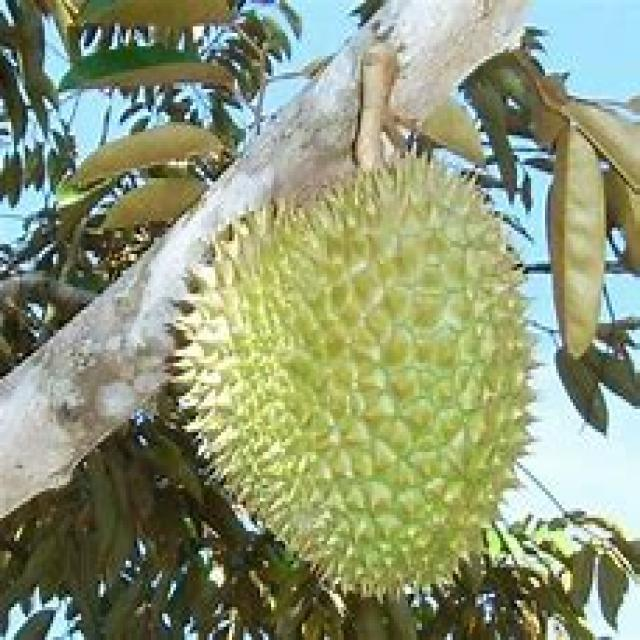immature: (169, 152, 545, 609)
